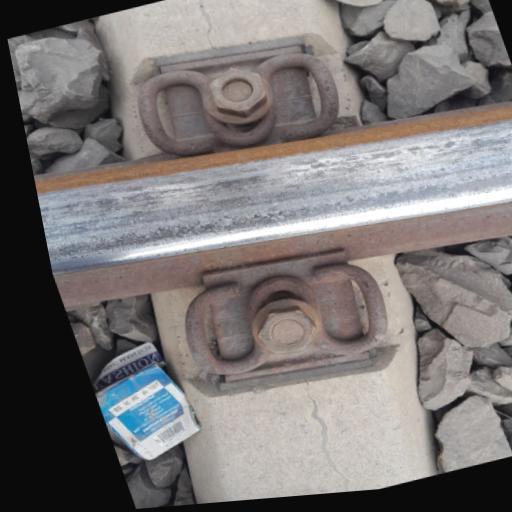bolt: (244, 295, 339, 370), (194, 54, 283, 125)
clip: (156, 244, 415, 405), (134, 38, 354, 149)
rail: (130, 94, 512, 266)
